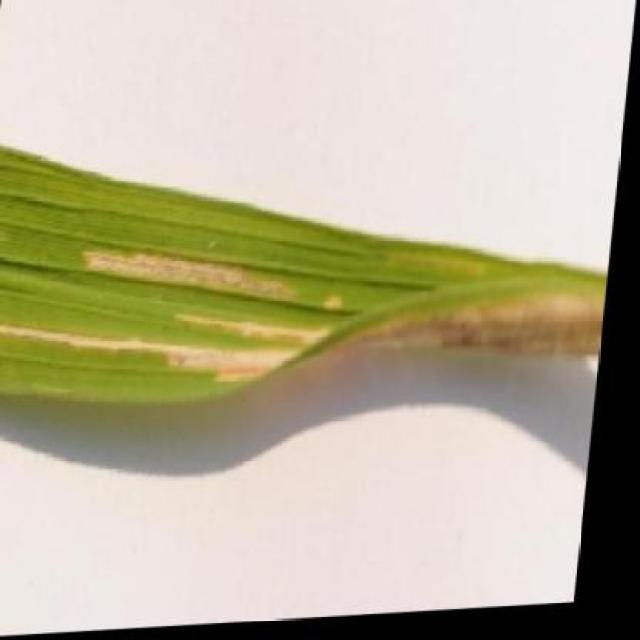Brown_Spot: (0, 108, 629, 428)
